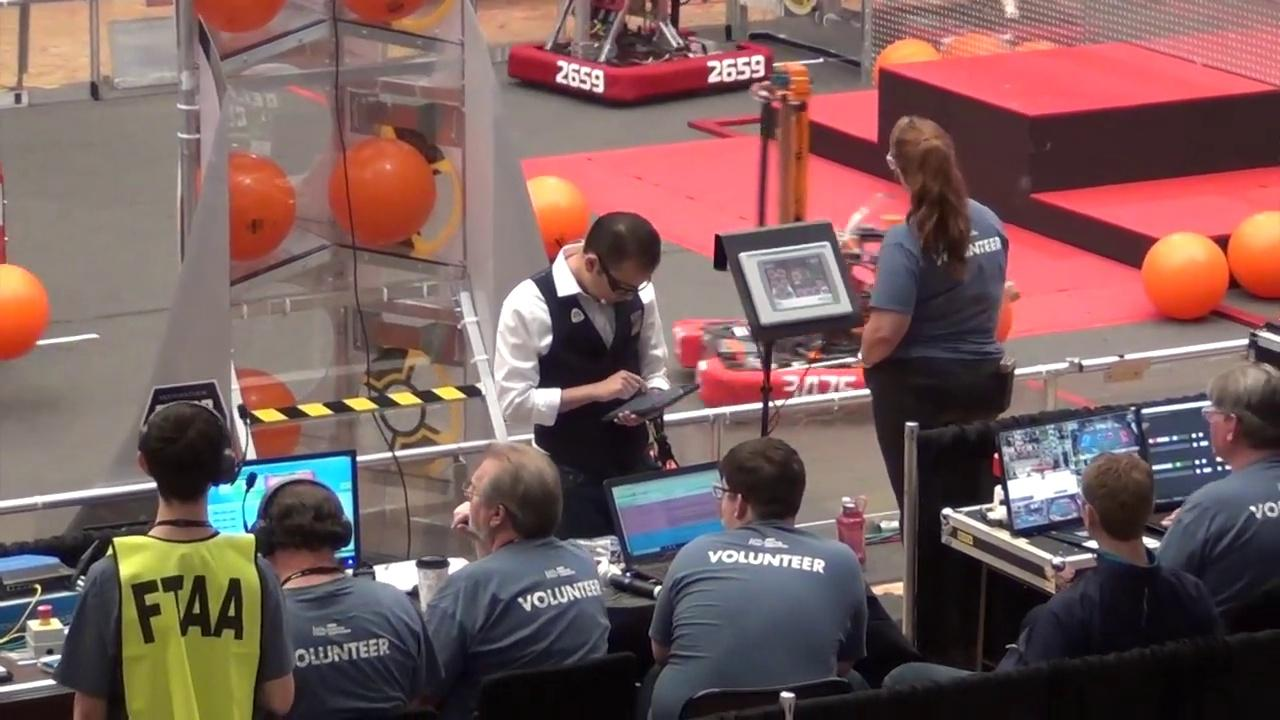robot: (674, 201, 868, 418), (506, 0, 766, 103)
